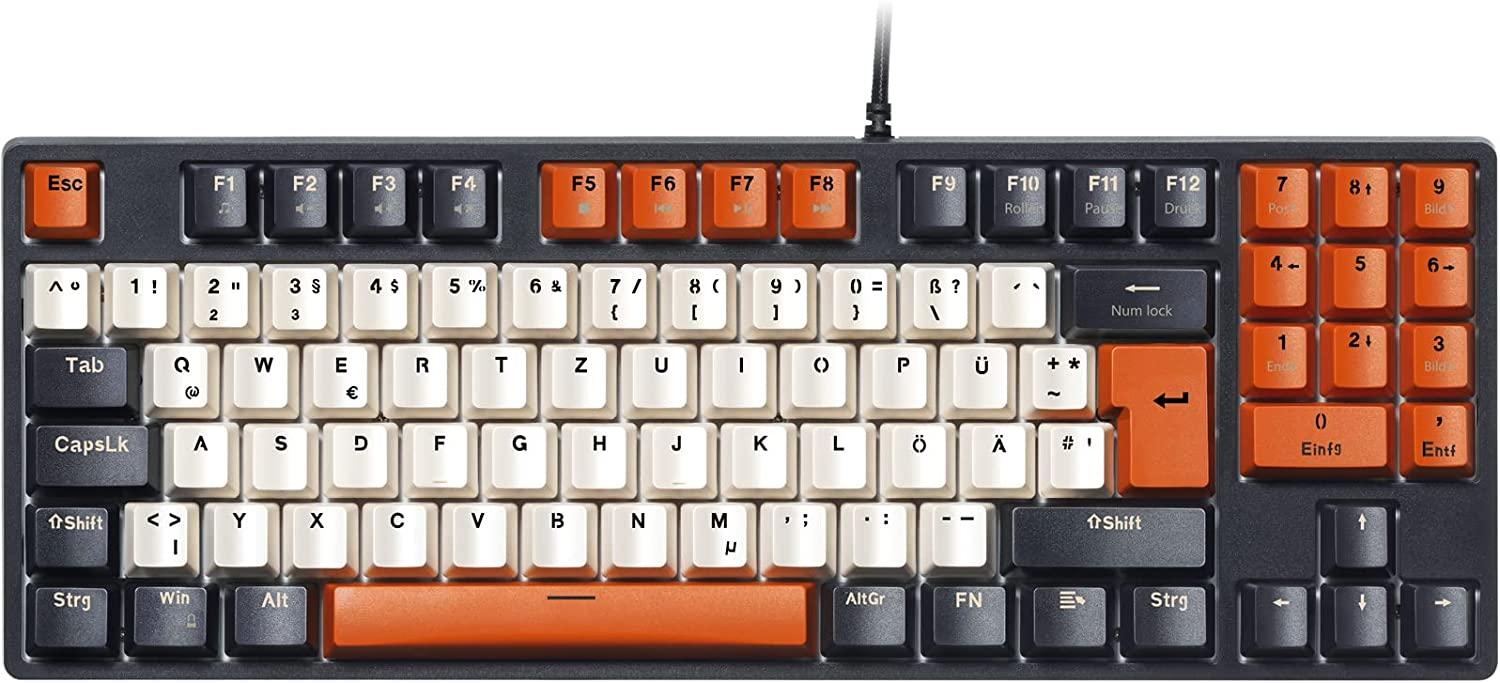0: (824, 259, 894, 332)
1: (106, 258, 169, 327)
2: (185, 258, 250, 330)
3: (264, 258, 332, 331)
4: (347, 259, 412, 330)
5: (426, 258, 491, 328)
6: (507, 258, 572, 328)
7: (585, 259, 651, 331)
8: (662, 259, 731, 332)
9: (745, 259, 812, 330)
a: (165, 416, 229, 486)
accent: (985, 257, 1048, 327)
ae: (961, 416, 1029, 488)
alt-left: (230, 581, 309, 645)
altgr-right: (827, 580, 907, 645)
b: (522, 496, 590, 566)
c: (362, 496, 429, 565)
caret: (25, 259, 91, 329)
comma: (759, 496, 828, 565)
d: (325, 416, 389, 486)
del: (1069, 262, 1207, 331)
e: (305, 337, 371, 408)
enter: (1102, 337, 1213, 491)
f: (404, 416, 467, 485)
g: (482, 416, 548, 487)
h: (563, 416, 628, 488)
hash: (1038, 416, 1106, 488)
i: (705, 338, 769, 405)
j: (642, 416, 707, 487)
k: (723, 416, 789, 488)
keyboard: (5, 131, 1497, 677)
l: (801, 416, 867, 487)
less: (123, 496, 192, 566)
m: (681, 496, 751, 567)
minus: (918, 496, 989, 565)
n: (601, 496, 669, 566)
o: (782, 337, 849, 406)
oe: (881, 416, 948, 488)
p: (864, 338, 930, 407)
plus: (1021, 338, 1090, 409)
point: (841, 497, 909, 565)
q: (143, 338, 213, 409)
r: (385, 338, 449, 407)
s: (243, 417, 309, 488)
shift-left: (28, 501, 110, 567)
shift-lock: (28, 420, 150, 487)
shift-right: (1007, 501, 1207, 566)
space: (320, 579, 814, 649)
ss: (905, 259, 971, 331)
strg-left: (27, 581, 111, 648)
strg-right: (1125, 580, 1209, 647)
t: (464, 338, 528, 407)
tab: (25, 340, 129, 408)
u: (625, 338, 690, 407)
ue: (942, 338, 1009, 408)
v: (442, 497, 509, 565)
w: (226, 338, 291, 407)
x: (283, 497, 349, 566)
y: (205, 497, 269, 565)
z: (544, 338, 610, 407)
